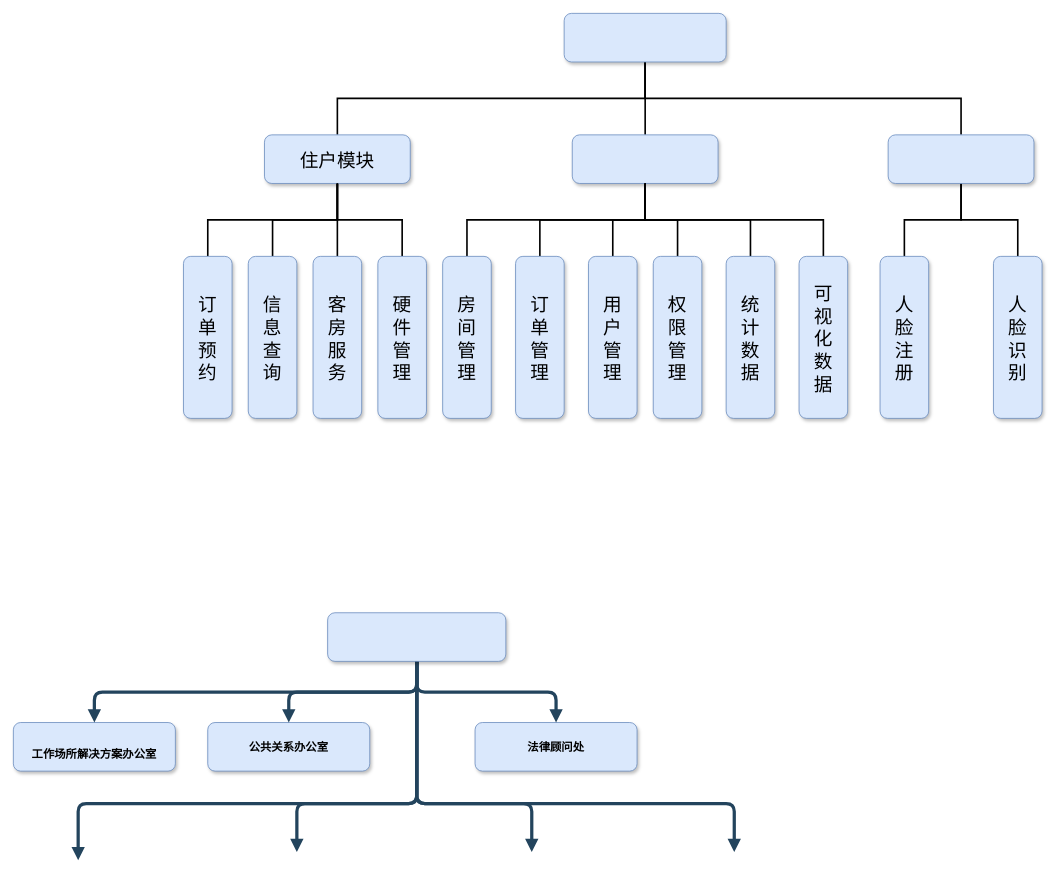
Some shapes in this 1055 by 870 pixel diagram are drawn without their labels. The centre of each missing label's shape, as x and y in pixels:
人脸识别模块: the point at 961,160
副主任: the point at 417,638
智慧酒店管理系统: the point at 645,38
管理员模块: the point at 645,160
